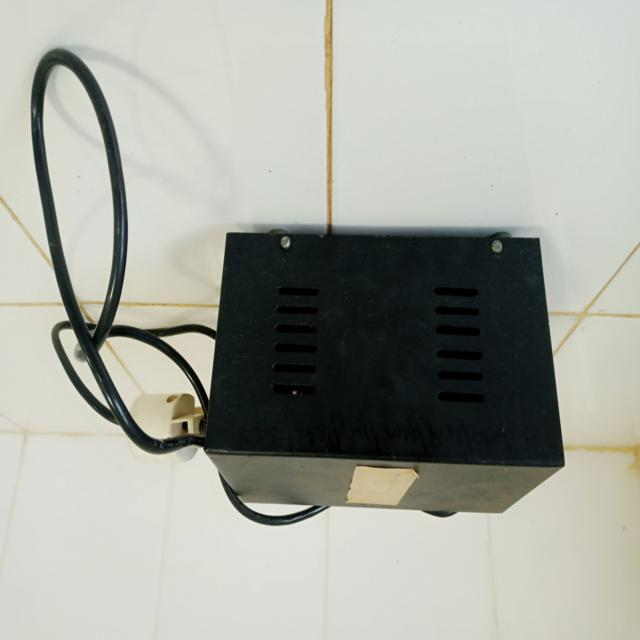Sodium Lamp Power Supply: (198, 214, 572, 524)
